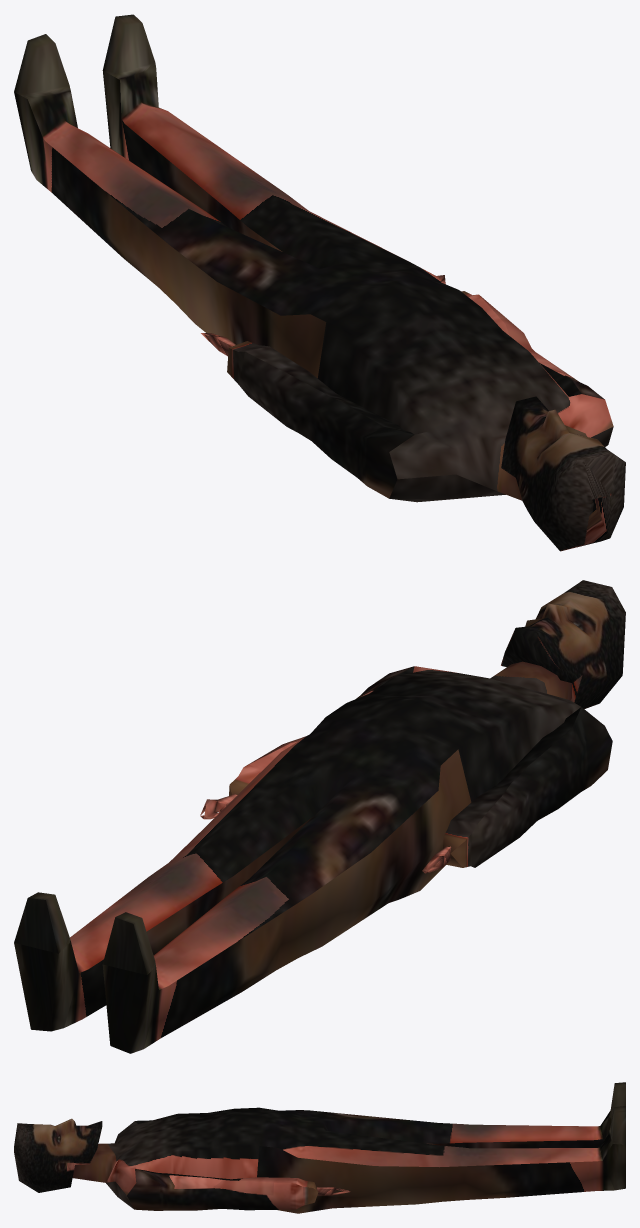
The model's file is npc_budi_idle.obj.
3 renders of one model, top to bottom at view 1: azimuth 30°, elevation 25°; view 2: azimuth 150°, elevation 25°; view 3: azimuth 270°, elevation 25°, orthographic. The views are drawn at different scales.
Visible parts, largest first — view 1: npc_budi_idle; view 2: npc_budi_idle; view 3: npc_budi_idle.
Part boxes in pixels (bbox=[...]): npc_budi_idle: bbox=[14, 14, 625, 551]; npc_budi_idle: bbox=[14, 580, 625, 1053]; npc_budi_idle: bbox=[14, 1082, 625, 1213].
Size of the model in its own units: 0.4716 by 0.3226 by 1.74.
Materials: 1 (1 with a texture image).
